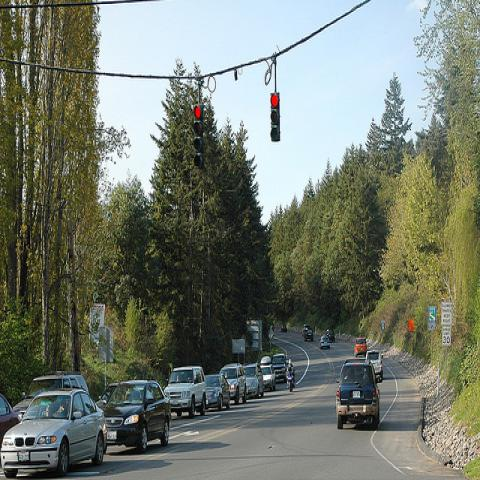car: (0, 316, 317, 454), (0, 388, 108, 472), (102, 378, 172, 453), (336, 362, 380, 430), (163, 366, 206, 418), (218, 362, 246, 405), (205, 373, 231, 412), (241, 363, 264, 398), (365, 348, 383, 383), (260, 356, 277, 392), (272, 354, 288, 382), (352, 337, 368, 357), (319, 336, 332, 348), (324, 330, 334, 342)
motorcycle: (286, 366, 294, 392)
